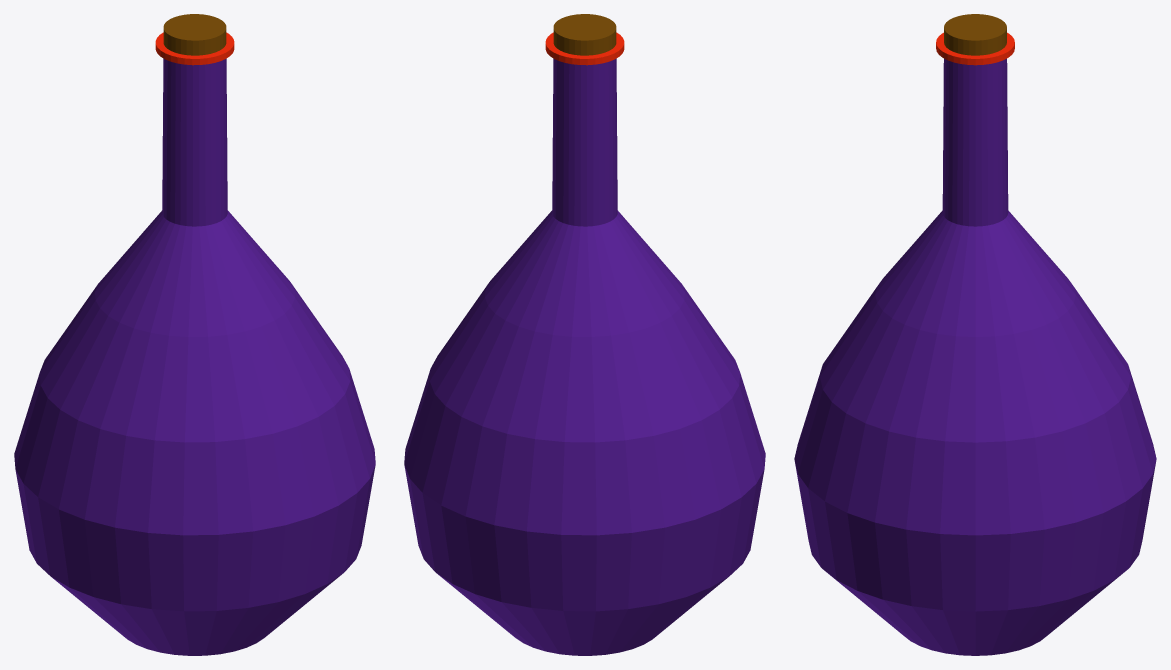
File: jar.fbx
3 views of the same model, side by side, from view 1: azimuth 30°, elevation 25°; view 2: azimuth 150°, elevation 25°; view 3: azimuth 270°, elevation 25° (orthographic).
Parts seen in each view (by area): view 1: jar; view 2: jar; view 3: jar.
Part boxes in pixels (x1,y1,x2,y2): jar: (14,14,375,655); jar: (404,14,765,655); jar: (794,14,1156,655).
Size of the model in its own units: 465 by 844 by 465.
